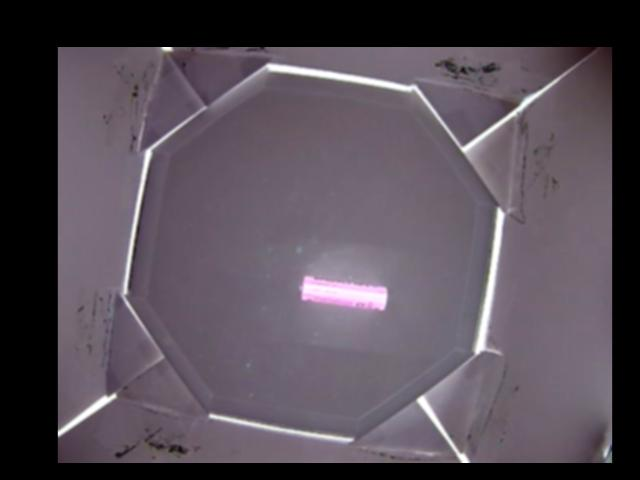Battery: (297, 274, 386, 311)
